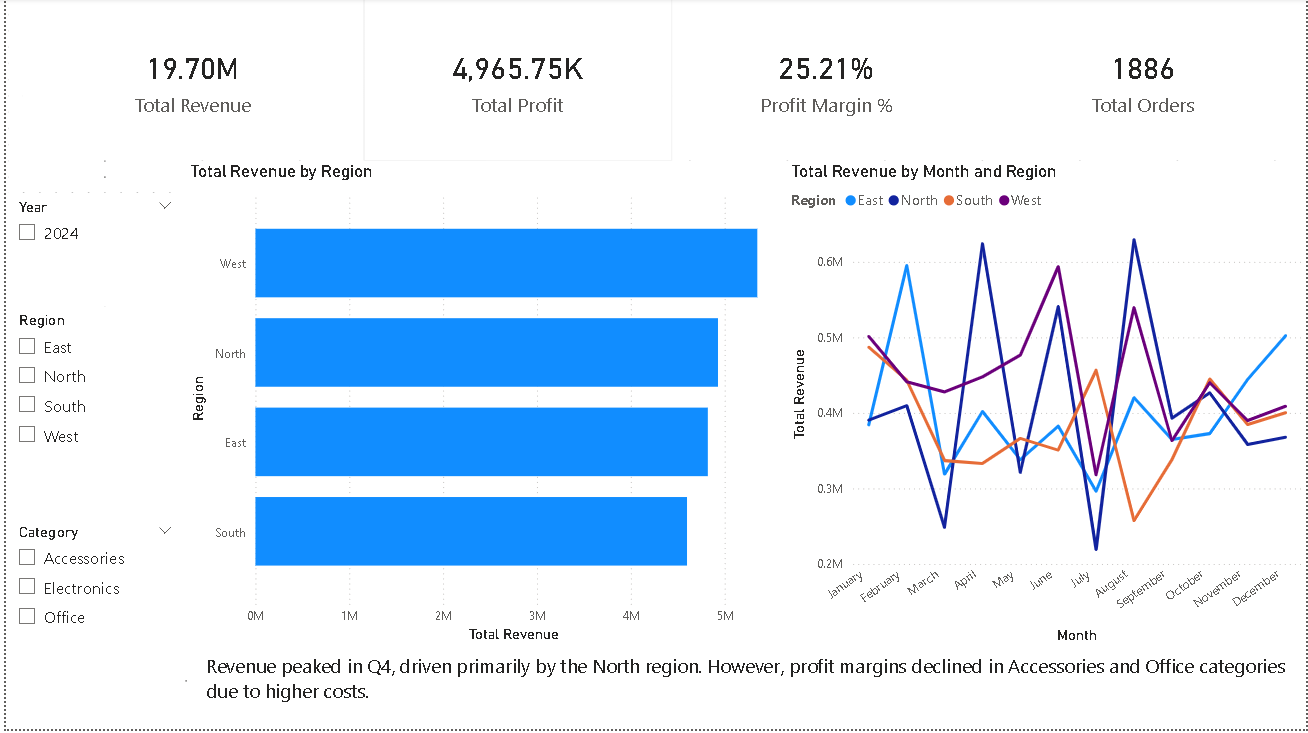

This screenshot's page, from the dashboard's own definition file:
{"tool":"powerbi","page":{"name":"Executive Overview","canvas":[1280,720],"ordinal":0},"visuals":[{"type":"card","fields":{"Values":["_Measures.Total Revenue"]},"box":[16,0,336,160],"z":0},{"type":"card","fields":{"Values":["_Measures.Total Profit"]},"box":[352,0,304,160],"z":1000},{"type":"card","fields":{"Values":["_Measures.Profit Margin %"]},"box":[656,0,304,160],"z":2000},{"type":"card","fields":{"Values":["_Measures.Total Orders"]},"box":[960,0,320,160],"z":3000},{"type":"lineChart","fields":{"Category":["Dim_Date.Month"],"Y":["_Measures.Total Revenue"],"Series":["Dim_Region.Region"]},"box":[768,160,512,480],"z":4000},{"type":"clusteredBarChart","fields":{"Category":["Dim_Region.Region"],"Y":["_Measures.Total Revenue"]},"box":[176,160,592,480],"z":5000},{"type":"slicer","fields":{"Values":["Fact_Sales.Year"]},"box":[0,192,176,112],"z":6000},{"type":"slicer","fields":{"Values":["Dim_Region.Region"]},"box":[0,304,176,208],"z":7000},{"type":"slicer","fields":{"Values":["Fact_Sales.Category"]},"box":[0,512,176,208],"z":8000},{"type":"textbox","box":[192,640,1088,80],"z":9000}]}

Visuals, with their boxes in screenshot pixels (x1, y1, x2, y2), scaled from the page's 1280x720 canvas onto the 1308x733 screenshot:
card - _Measures.Total Revenue: (16, 0, 360, 163)
card - _Measures.Total Profit: (360, 0, 670, 163)
card - _Measures.Profit Margin %: (670, 0, 981, 163)
card - _Measures.Total Orders: (981, 0, 1307, 163)
lineChart - Dim_Date.Month x _Measures.Total Revenue: (785, 163, 1307, 652)
clusteredBarChart - Dim_Region.Region x _Measures.Total Revenue: (180, 163, 785, 652)
slicer - Fact_Sales.Year: (0, 195, 180, 309)
slicer - Dim_Region.Region: (0, 309, 180, 521)
slicer - Fact_Sales.Category: (0, 521, 180, 732)
textbox: (196, 652, 1307, 732)
